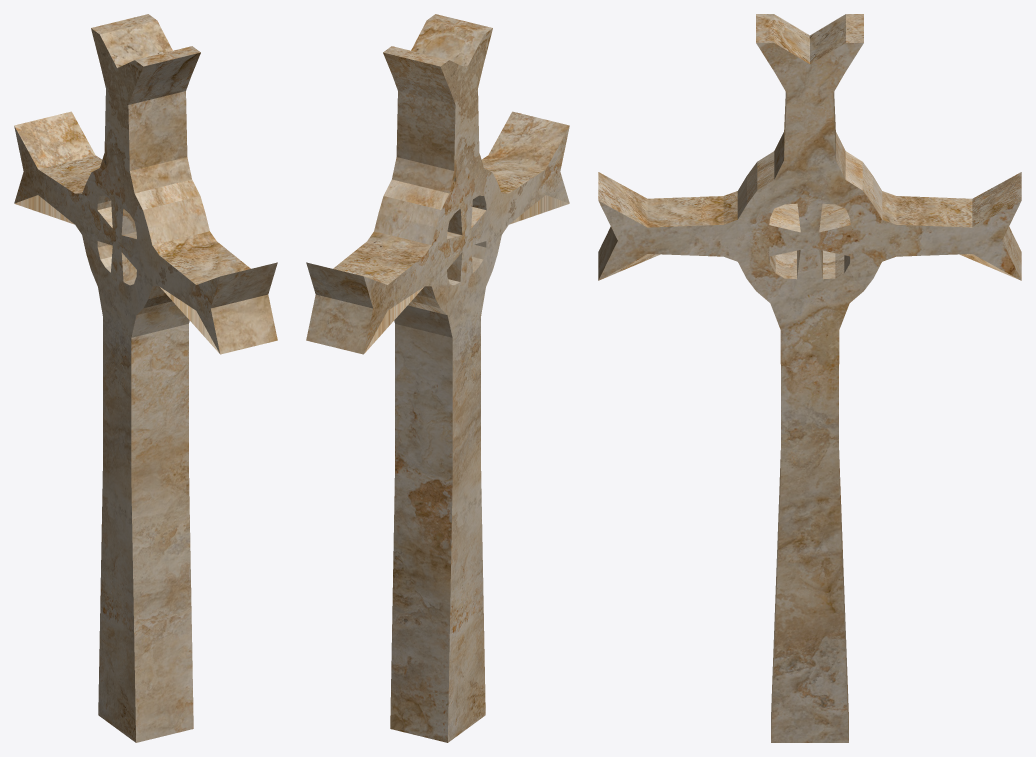
Rendered from cross2.fbx.
3 renders of one model, left to right at view 1: azimuth 30°, elevation 25°; view 2: azimuth 150°, elevation 25°; view 3: azimuth 270°, elevation 25°, orthographic. The views are drawn at different scales.
Parts seen in each view (by area): view 1: Cube; view 2: Cube; view 3: Cube.
Part boxes in pixels (<box>): Cube: <box>14,14,277,742</box>; Cube: <box>306,14,569,742</box>; Cube: <box>598,14,1021,742</box>.
Bounding box in the file's own units: 27.75 × 312 × 171.
